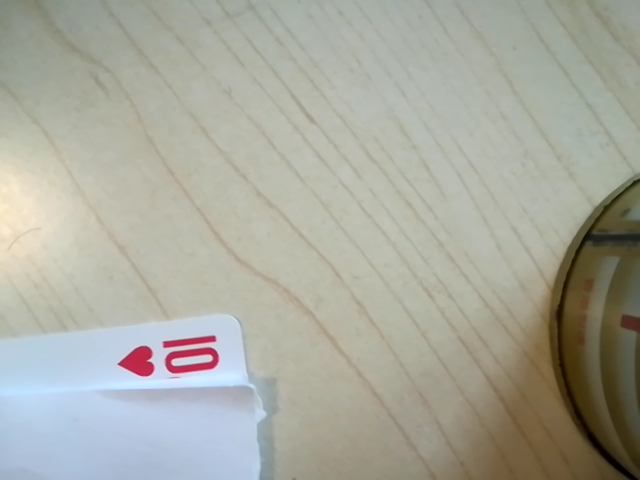hx 10: (110, 330, 236, 392)
